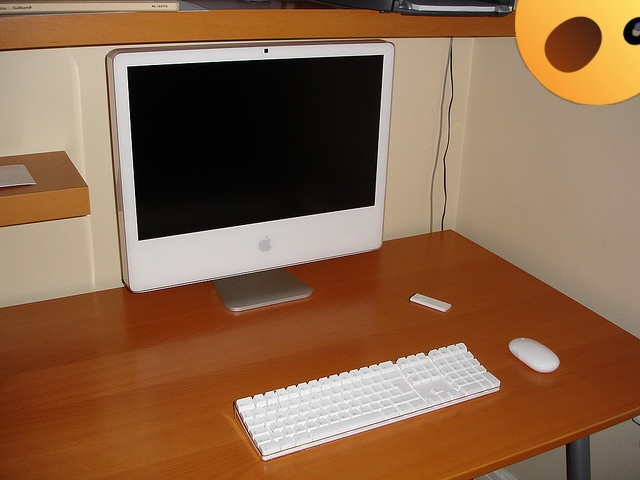wow: (515, 0, 640, 105)
